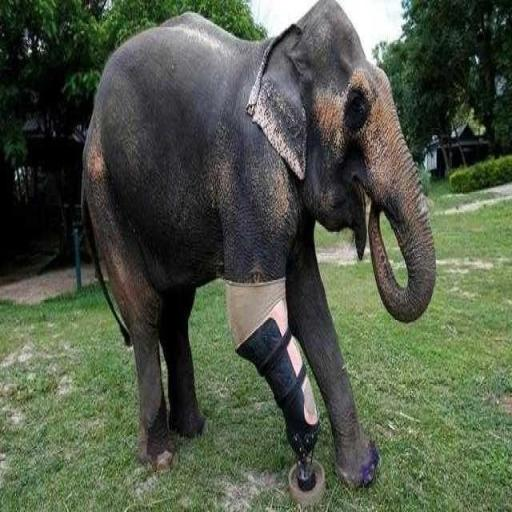Elephant: (79, 0, 437, 492)
